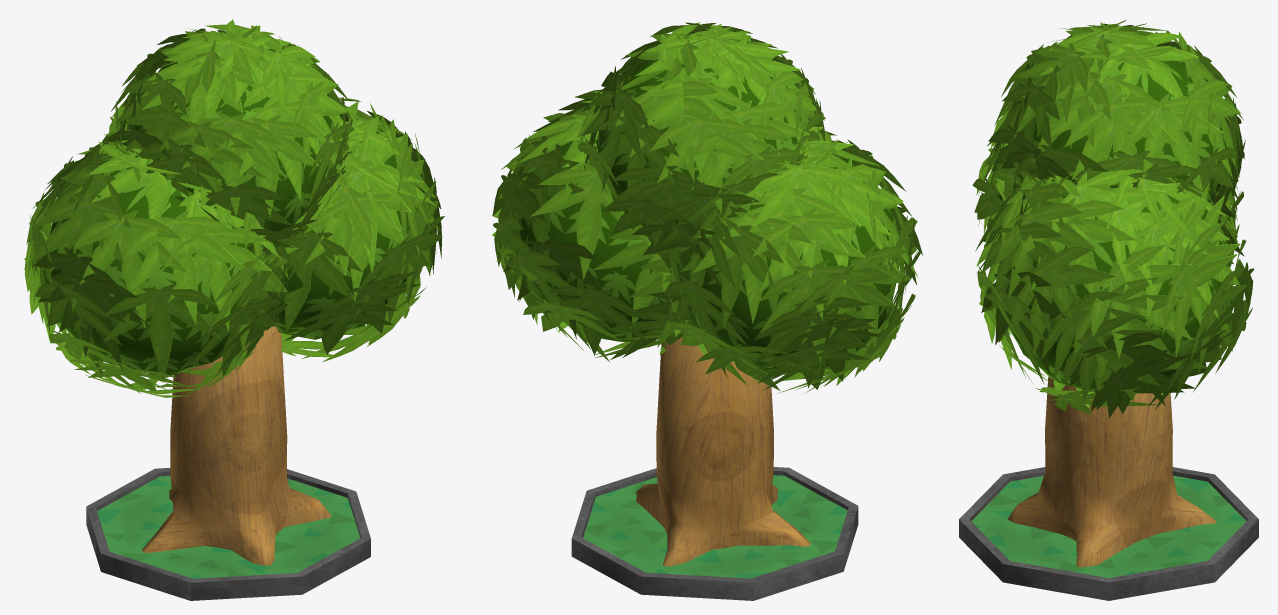
File: Props_Tree_1.1.fbx
The picture shows the model from 3 angles, left to right: view 1: azimuth 30°, elevation 25°; view 2: azimuth 150°, elevation 25°; view 3: azimuth 270°, elevation 25°; orthographic projection.
Parts seen in each view (by area): view 1: Tree-1.1; view 2: Tree-1.1; view 3: Tree-1.1.
Boxes of the visible parts, left/top/right/bottom form: Tree-1.1: left=24, top=19, right=444, bottom=600; Tree-1.1: left=492, top=22, right=923, bottom=600; Tree-1.1: left=959, top=20, right=1258, bottom=600.
Size of the model in its own units: 766 by 921 by 492.
